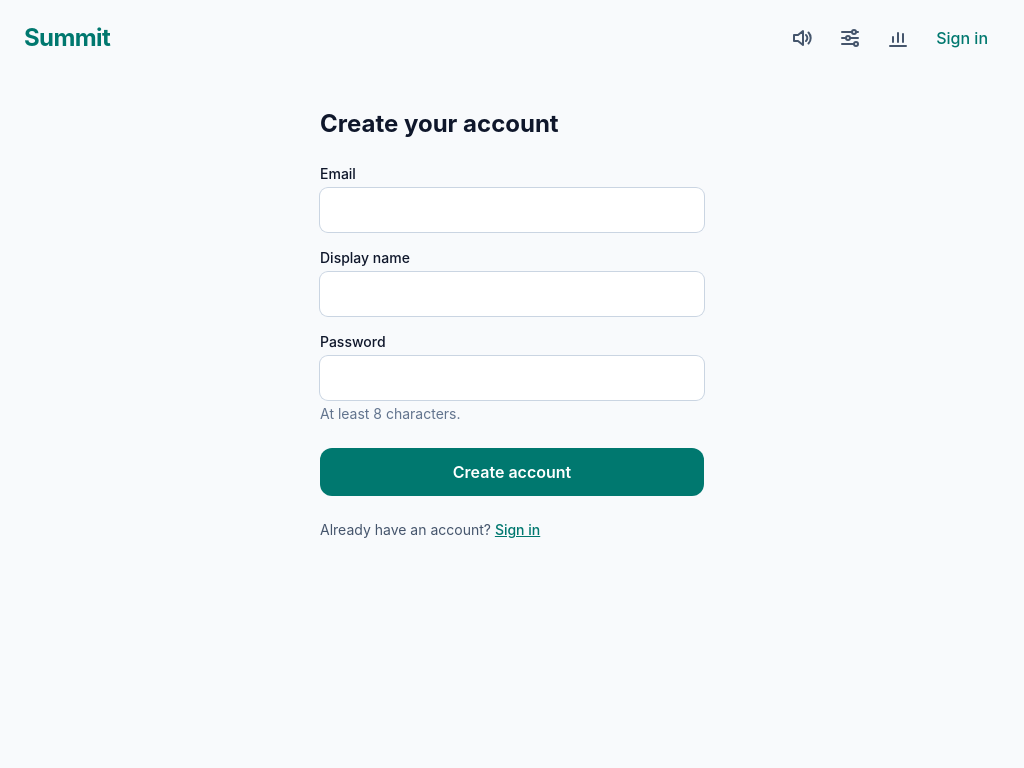
Test: signing up › shows a taken email under the field, with a way to sign in instead
Step 1. Type "ana@example.com" into the field labelled "Email" → (512, 210), box [320, 188, 704, 232]
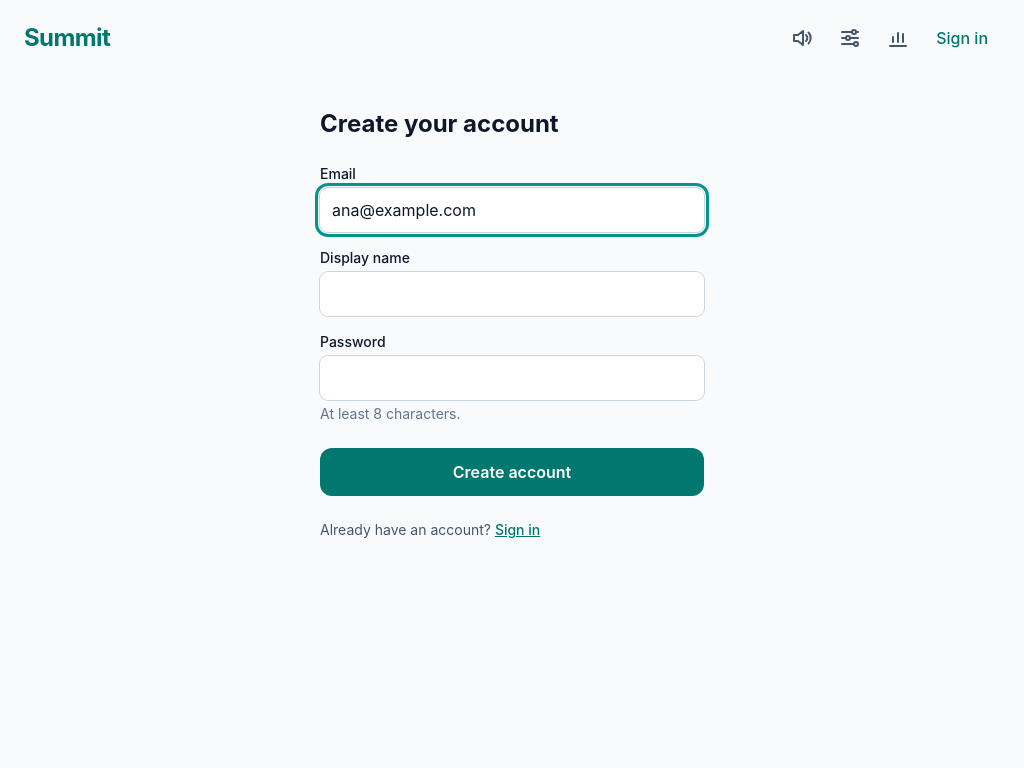
Step 2. Type "Ana again" into the field labelled "Display name" → (512, 294), box [320, 272, 704, 316]
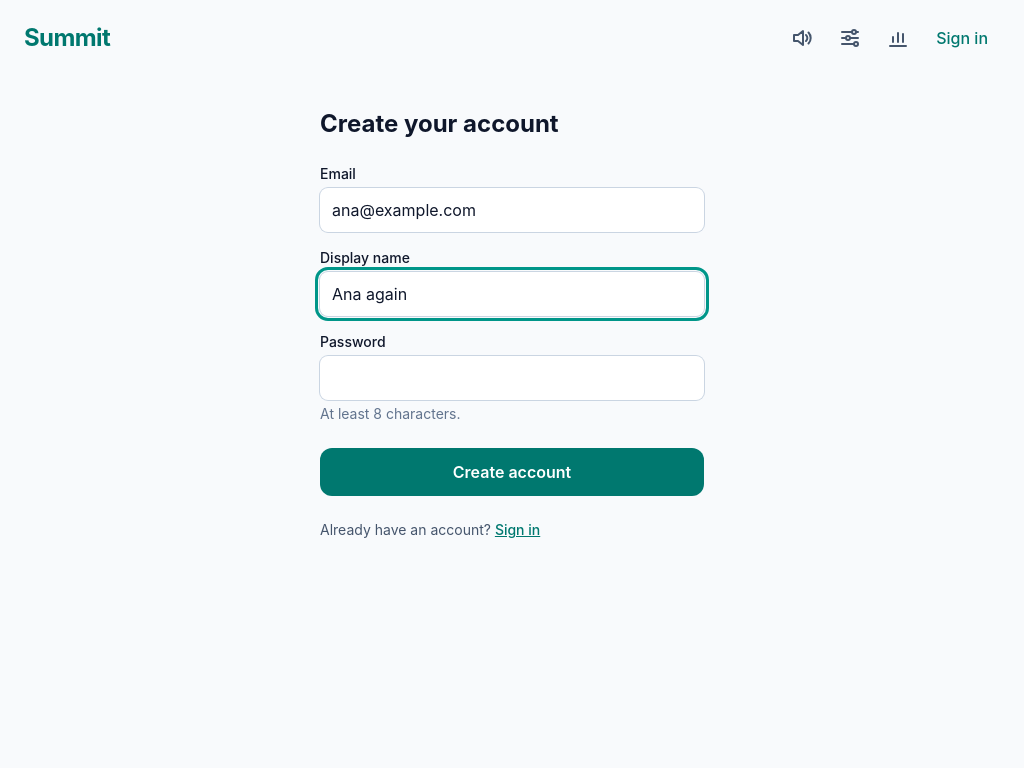
Step 3. Type "correct horse battery" into the password field labelled "Password" → (512, 378), box [320, 356, 704, 400]
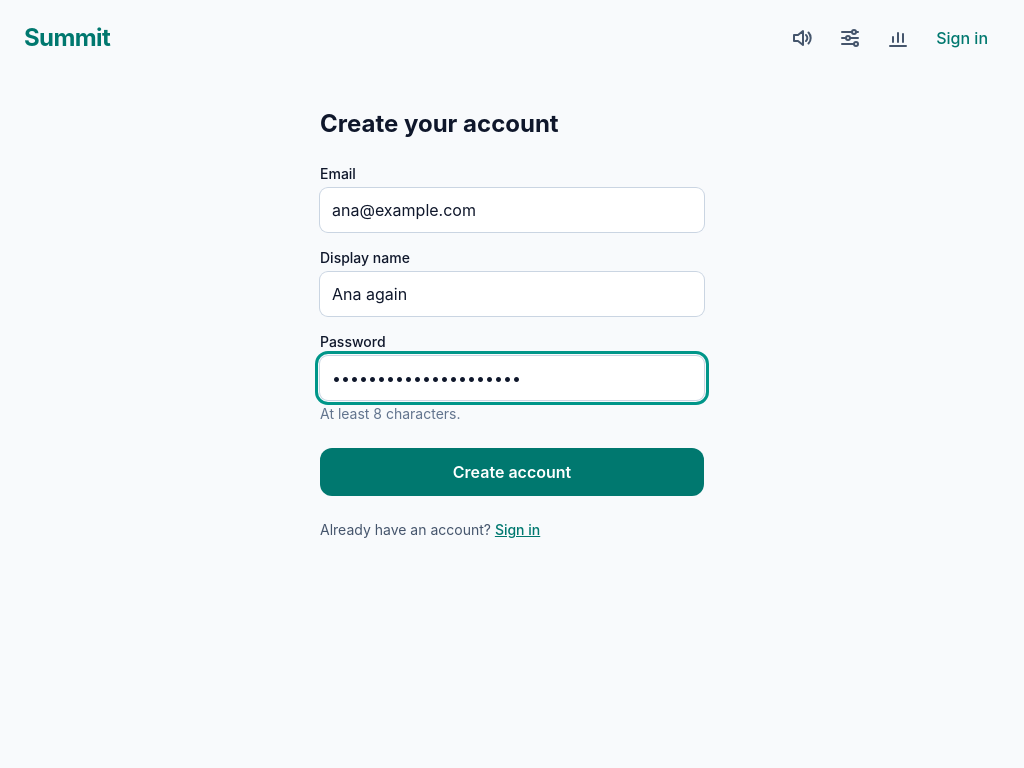
Step 4. Click the button "Create account" → (512, 472), box [320, 448, 704, 496]
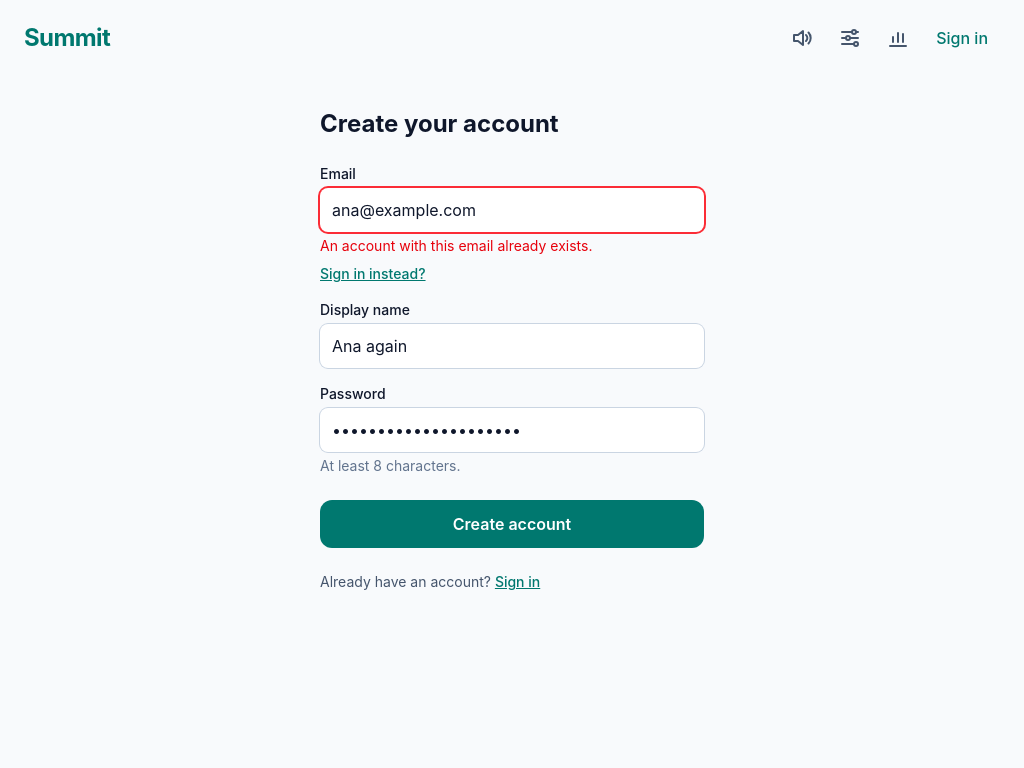
Check: the link "Sign in instead?" is shown, box [320, 265, 426, 282]
